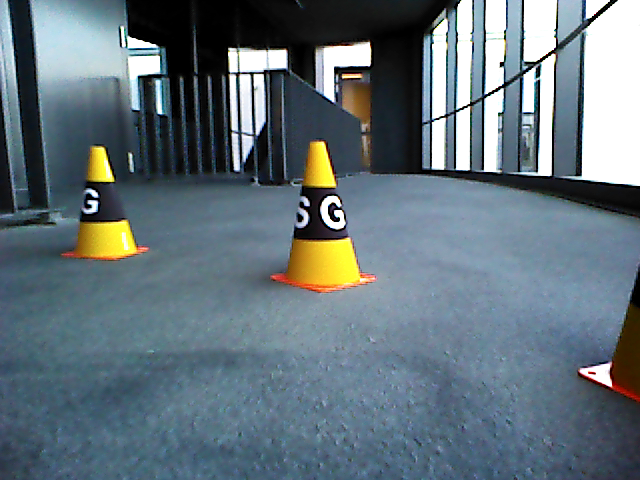yellowcone: (289, 141, 361, 279), (74, 145, 137, 254)
